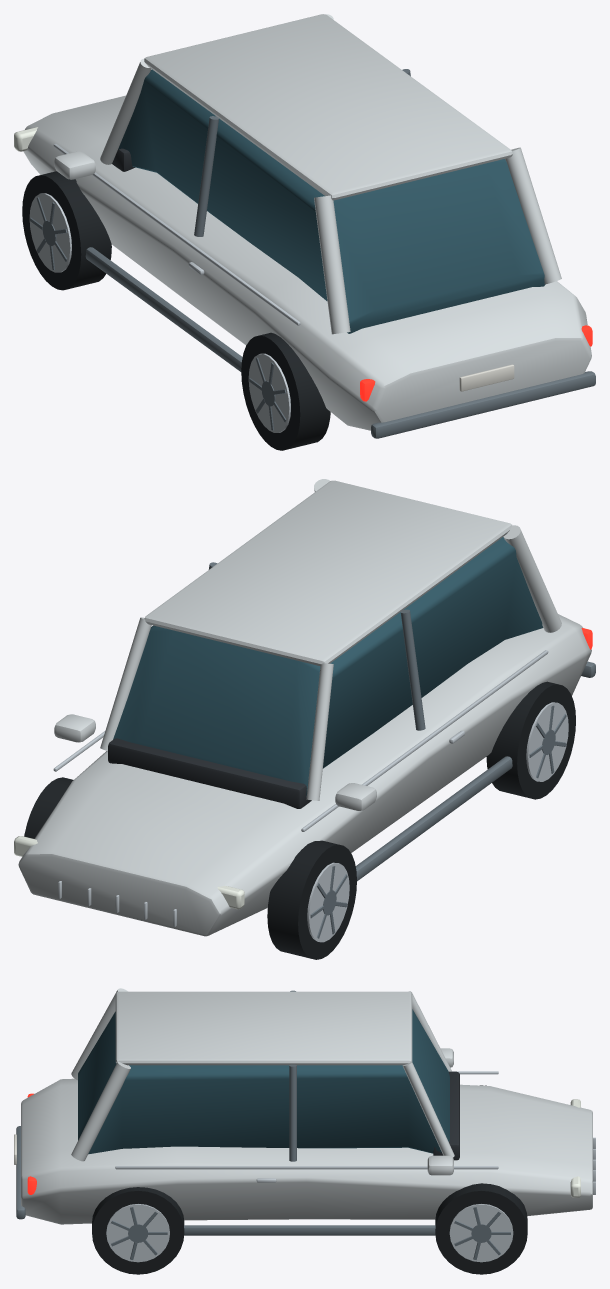
The model's file is Atlas_SUV.fbx.
3 renders of one model, top to bottom at view 1: azimuth 30°, elevation 25°; view 2: azimuth 150°, elevation 25°; view 3: azimuth 270°, elevation 25°, orthographic. The views are drawn at different scales.
Visible parts, largest first — view 1: Body.004, Wheel_LF.004, Wheel_LR.004; view 2: Body.004, Wheel_LF.004, Wheel_LR.004, Wheel_RF.004; view 3: Body.004, Wheel_RF.004, Wheel_RR.004.
Part boxes in pixels (x1,y1,x2,y2): Body.004: [23, 14, 595, 438]; Wheel_LF.004: [22, 171, 111, 290]; Wheel_LR.004: [241, 332, 330, 450]; Body.004: [18, 479, 595, 936]; Wheel_LF.004: [267, 840, 356, 959]; Wheel_LR.004: [486, 681, 575, 799]; Wheel_RF.004: [24, 777, 73, 838]; Body.004: [14, 988, 595, 1235]; Wheel_RF.004: [435, 1183, 527, 1274]; Wheel_RR.004: [92, 1187, 184, 1274].
Bounding box in the file's own units: 2.43 × 1.88 × 5.03.
